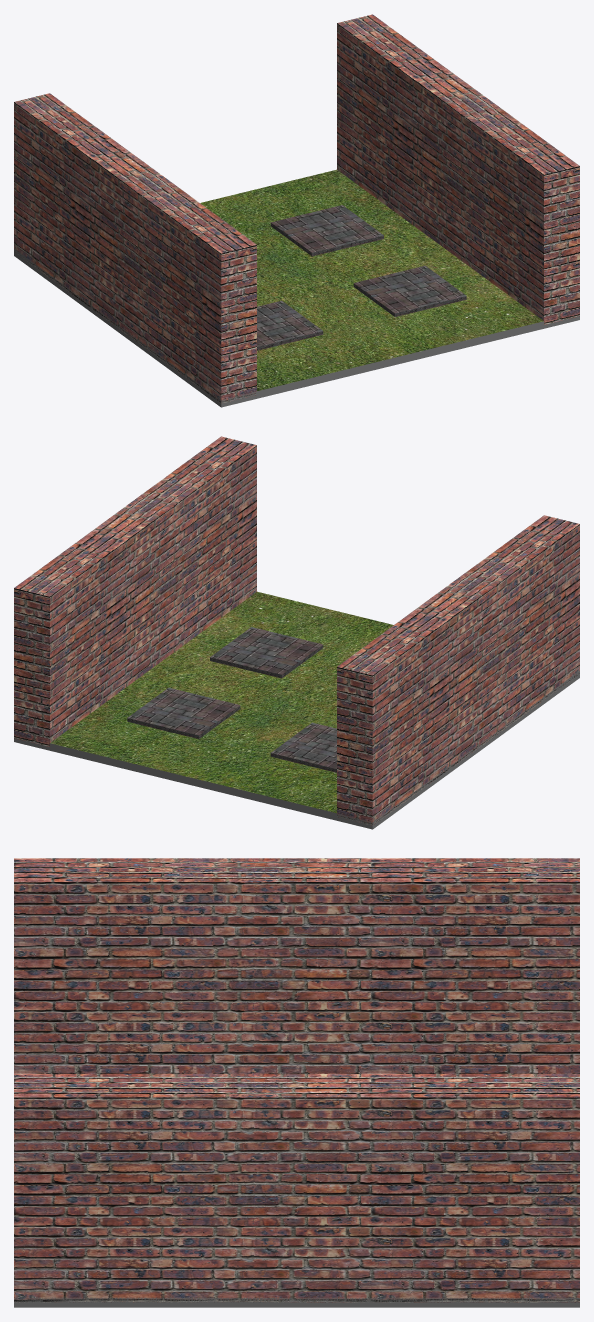
3 views of the same model, one above another, from view 1: azimuth 30°, elevation 25°; view 2: azimuth 150°, elevation 25°; view 3: azimuth 270°, elevation 25° (orthographic). The views are drawn at different scales.
Visible parts, largest first — view 1: Gerade_Stein; view 2: Gerade_Stein; view 3: Gerade_Stein.
Boxes of the visible parts, left/top/right/bottom form: Gerade_Stein: left=14, top=14, right=579, bottom=407; Gerade_Stein: left=14, top=436, right=579, bottom=829; Gerade_Stein: left=14, top=858, right=579, bottom=1307.
Size of the model in its own units: 5 by 2.05 by 5.
Materials: 8 (7 with a texture image).
